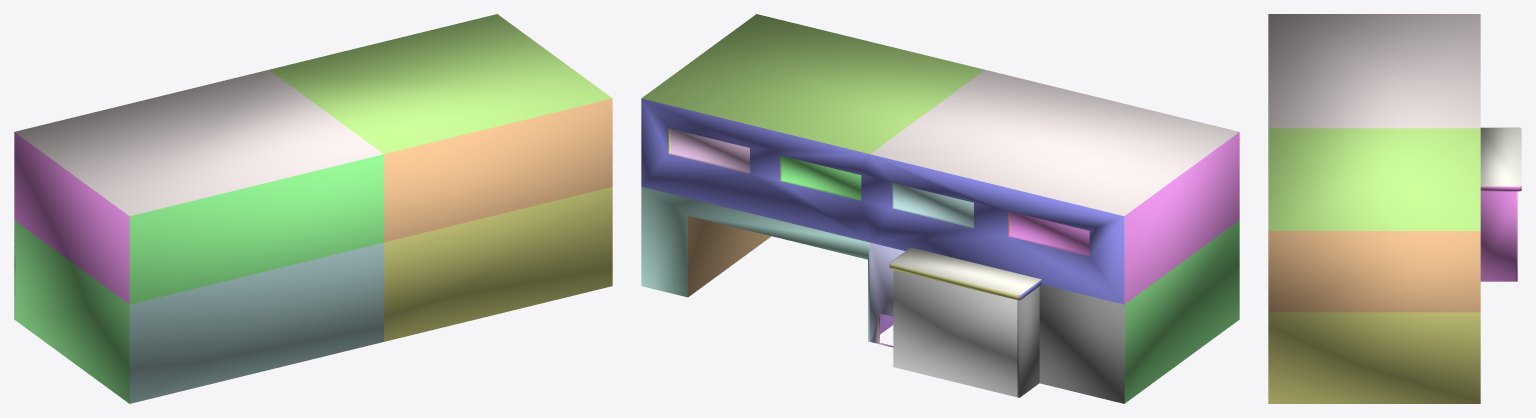
File: SM_Building_3.gltf
The picture shows the model from 3 angles, left to right: view 1: azimuth 30°, elevation 25°; view 2: azimuth 150°, elevation 25°; view 3: azimuth 270°, elevation 25°; orthographic projection. The views are drawn at different scales.
Visible parts, largest first — view 1: SM_Building_3; view 2: SM_Building_3; view 3: SM_Building_3.
Boxes of the visible parts, left/top/right/bottom form: SM_Building_3: left=14, top=14, right=612, bottom=403; SM_Building_3: left=641, top=14, right=1239, bottom=403; SM_Building_3: left=1268, top=14, right=1521, bottom=403.
Bounding box in the file's own units: 44.77 × 16.62 × 22.08.
